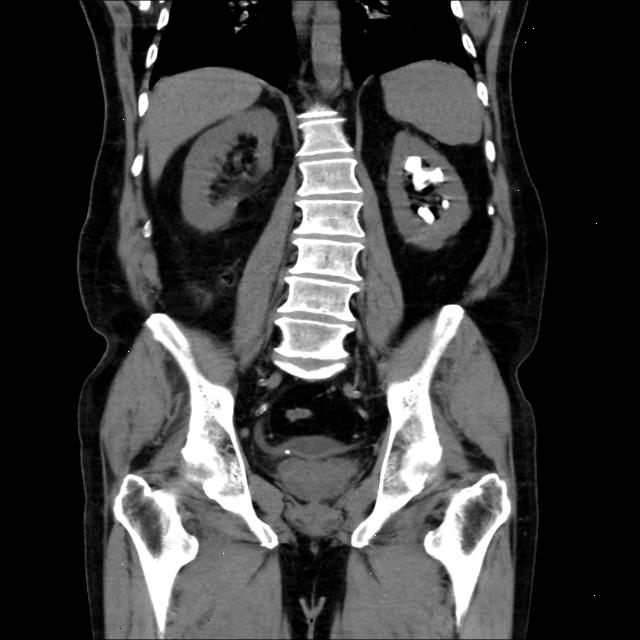kidneystone: (418, 206, 435, 224), (442, 199, 450, 209)
